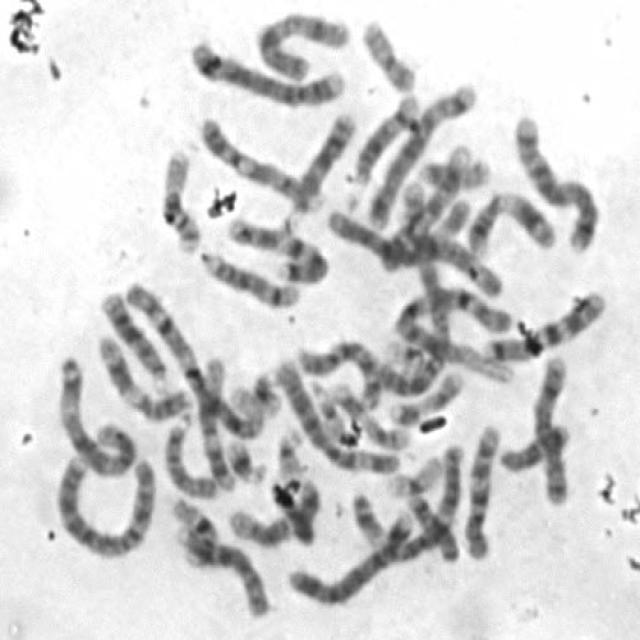A1: (118, 272, 268, 443), (384, 278, 520, 384)
A2: (369, 177, 459, 403), (49, 443, 160, 560)
A3: (345, 437, 462, 561), (51, 347, 139, 480)
B4: (285, 503, 416, 608), (182, 31, 348, 110)
B5: (362, 75, 481, 232), (507, 106, 602, 256)
C10: (293, 331, 383, 411), (459, 416, 503, 562)
C11: (91, 324, 199, 425), (461, 184, 560, 259)
C12: (224, 475, 323, 549), (197, 350, 236, 494)
C6: (270, 352, 402, 474), (321, 194, 479, 274)
C7: (479, 284, 611, 365), (222, 209, 335, 285)
C8: (172, 519, 274, 621), (528, 348, 574, 511)
C9: (370, 137, 472, 275), (193, 109, 328, 213)
D13: (280, 103, 360, 221), (96, 284, 171, 384)
D14: (345, 85, 421, 188), (194, 242, 303, 310)
D15: (414, 225, 503, 303), (157, 415, 219, 500)
E16: (154, 141, 204, 256), (166, 490, 221, 568)
E17: (326, 376, 414, 452), (384, 363, 466, 427)
E18: (401, 485, 463, 565), (496, 415, 574, 475)
F19: (382, 450, 446, 500), (378, 333, 428, 372)
F20: (355, 10, 420, 94), (412, 154, 492, 192)
G21: (221, 431, 270, 486), (246, 366, 284, 419)
G22: (305, 375, 364, 447), (272, 422, 305, 480)
X: (249, 3, 351, 82)
